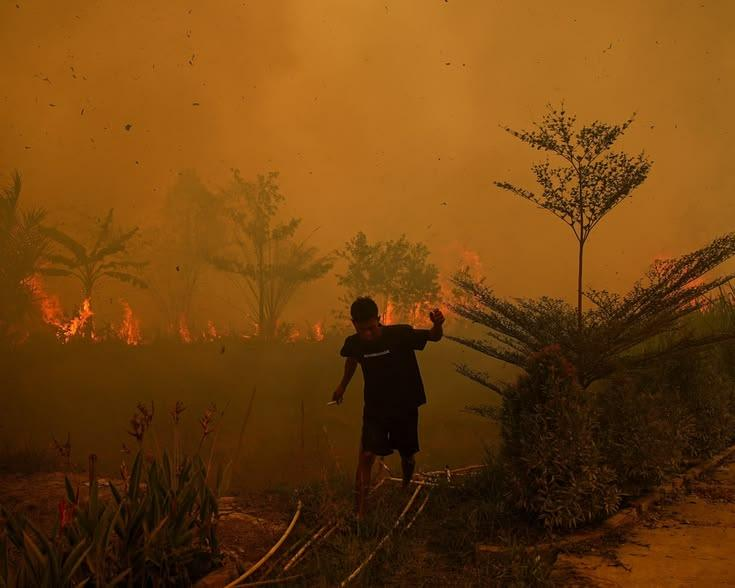Deteksi-Objek-Citra-Berasap: (0, 0, 735, 347)
Manusia: (329, 296, 445, 521)
Titik Api: (19, 274, 144, 347), (378, 249, 485, 328), (166, 310, 326, 346)
Vegetasi: (438, 230, 735, 533), (0, 399, 225, 588), (492, 99, 655, 331), (0, 169, 154, 345), (200, 167, 339, 341), (331, 231, 448, 328)
